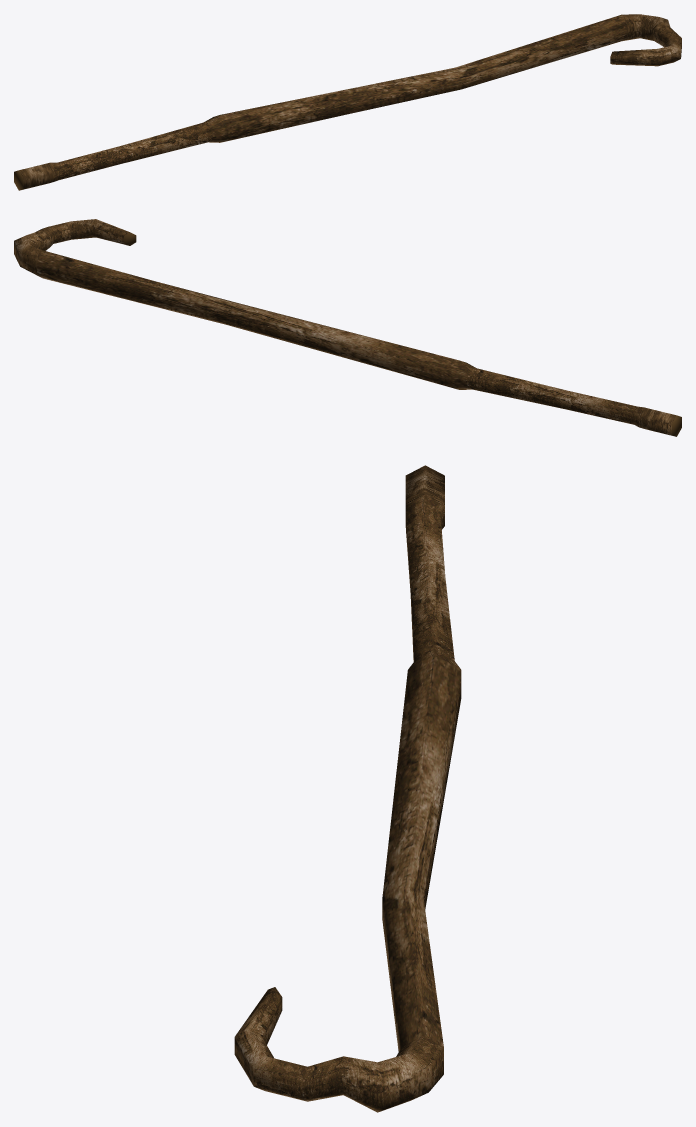
File: staff.obj
The picture shows the model from 3 angles, top to bottom: view 1: azimuth 30°, elevation 25°; view 2: azimuth 150°, elevation 25°; view 3: azimuth 270°, elevation 25°; orthographic projection. The views are drawn at different scales.
Size of the model in its own units: 95.51 by 4.93 by 14.69.
1 material, 1 textured.
